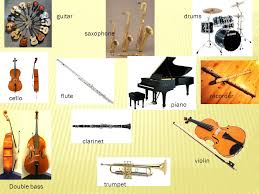Piano: (123, 50, 201, 113)
Saxophone: (84, 1, 168, 53), (95, 153, 182, 184)
Violin: (163, 107, 254, 177), (1, 52, 59, 106)
